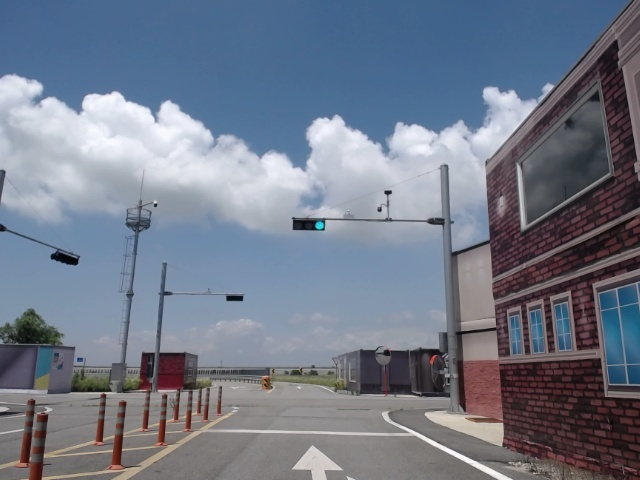green_3: (293, 219, 324, 231)
